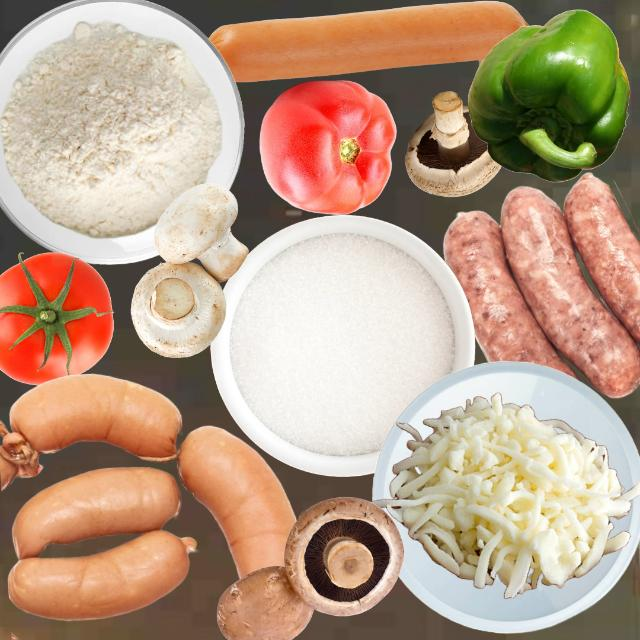Flour: (0, 19, 221, 238)
Sugar: (227, 231, 455, 456)
